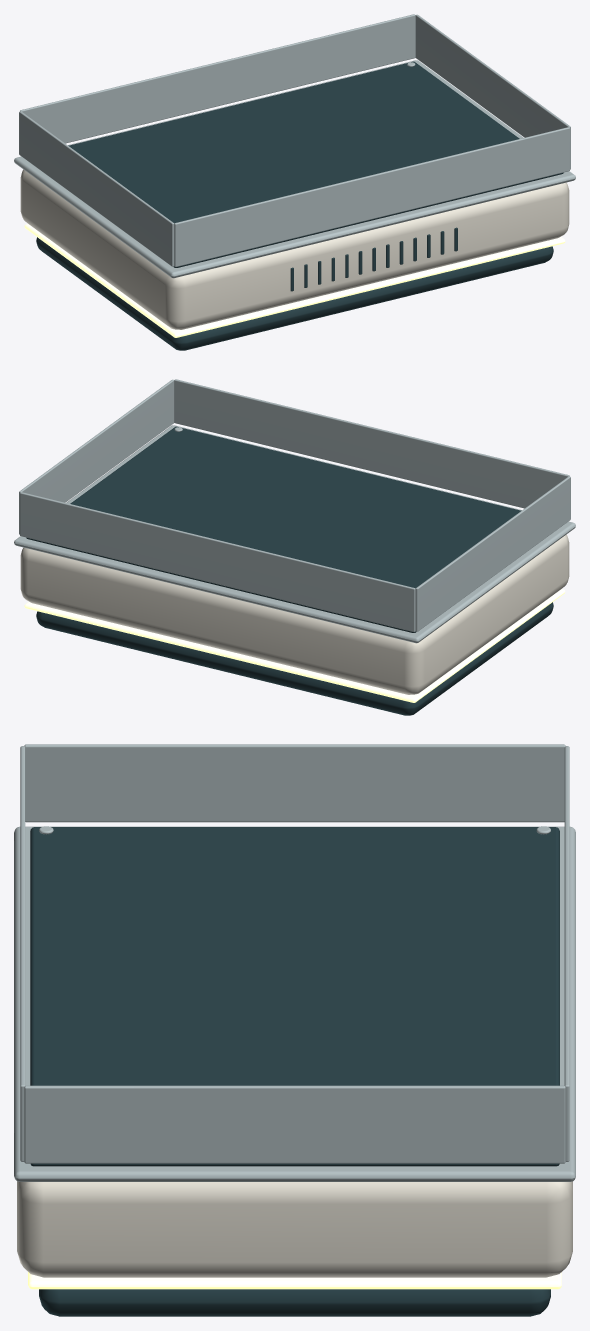
The model's file is bridge-table.glb.
3 views of the same model, one above another, from view 1: azimuth 30°, elevation 25°; view 2: azimuth 150°, elevation 25°; view 3: azimuth 270°, elevation 25° (orthographic). The views are drawn at different scales.
Parts seen in each view (by area): view 1: Dark instrument bed, Ceramic main chassis, Glass edge support.002, Glass edge support.003, Floating shadow foot, Glass edge support, Top aluminum rim, Glass edge support.001, Luminous perimeter; view 2: Dark instrument bed, Ceramic main chassis, Glass edge support.003, Glass edge support.002, Floating shadow foot, Glass edge support, Top aluminum rim, Glass edge support.001, Luminous perimeter; view 3: Dark instrument bed, Ceramic main chassis, Glass edge support.001, Glass edge support, Top aluminum rim, Floating shadow foot, Luminous perimeter, Glass edge support.002, Glass edge support.003.
Boxes of the visible parts, x1,y1,x2,y2 form: Dark instrument bed: [68, 61, 563, 267]; Ceramic main chassis: [20, 169, 569, 329]; Glass edge support.002: [174, 127, 569, 266]; Glass edge support.003: [20, 14, 415, 143]; Floating shadow foot: [36, 237, 553, 350]; Glass edge support: [19, 111, 174, 266]; Top aluminum rim: [14, 60, 575, 278]; Glass edge support.001: [415, 14, 570, 169]; Luminous perimeter: [24, 224, 565, 337]; Dark instrument bed: [26, 426, 521, 632]; Ceramic main chassis: [20, 534, 569, 694]; Glass edge support.003: [20, 492, 415, 631]; Glass edge support.002: [174, 379, 569, 508]; Floating shadow foot: [36, 602, 553, 715]; Glass edge support: [415, 476, 570, 631]; Top aluminum rim: [14, 425, 575, 643]; Glass edge support.001: [19, 379, 174, 534]; Luminous perimeter: [24, 589, 565, 702]; Dark instrument bed: [30, 827, 559, 1166]; Ceramic main chassis: [17, 1181, 572, 1277]; Glass edge support.001: [24, 1085, 565, 1163]; Glass edge support: [24, 744, 565, 822]; Top aluminum rim: [14, 826, 575, 1181]; Floating shadow foot: [39, 1289, 550, 1316]; Luminous perimeter: [28, 1272, 561, 1289]; Glass edge support.002: [20, 746, 25, 1161]; Glass edge support.003: [564, 746, 569, 1161].
Size of the model in its own units: 5.64 by 1.84 by 3.84.
